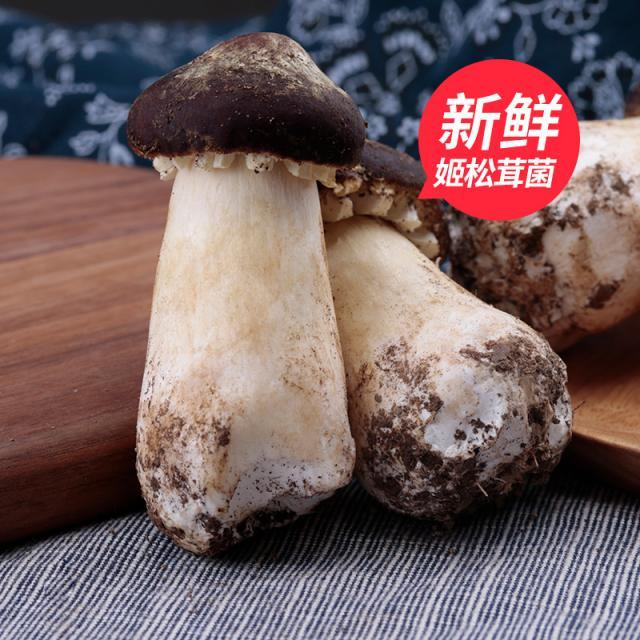Agaricus blazei Murill: (128, 29, 369, 527)
